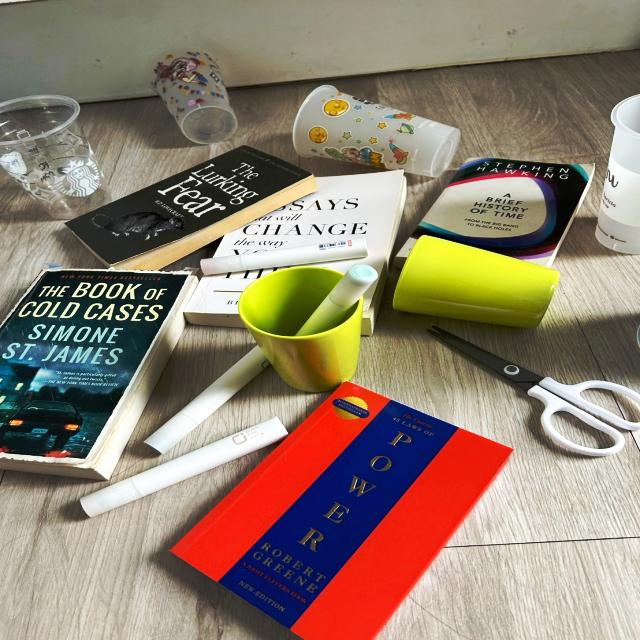Book: (169, 382, 514, 639), (0, 269, 199, 481), (184, 169, 407, 336), (65, 144, 317, 270), (394, 157, 595, 268)
HighLight Pen: (81, 416, 290, 518), (143, 345, 270, 455), (200, 237, 369, 275), (294, 264, 377, 335)
Plastic Cup: (292, 85, 461, 178), (1, 94, 114, 220), (149, 47, 237, 145), (596, 94, 639, 255)
Scissors: (426, 326, 639, 457)
WaterGlass: (238, 266, 363, 392), (393, 235, 560, 328)
